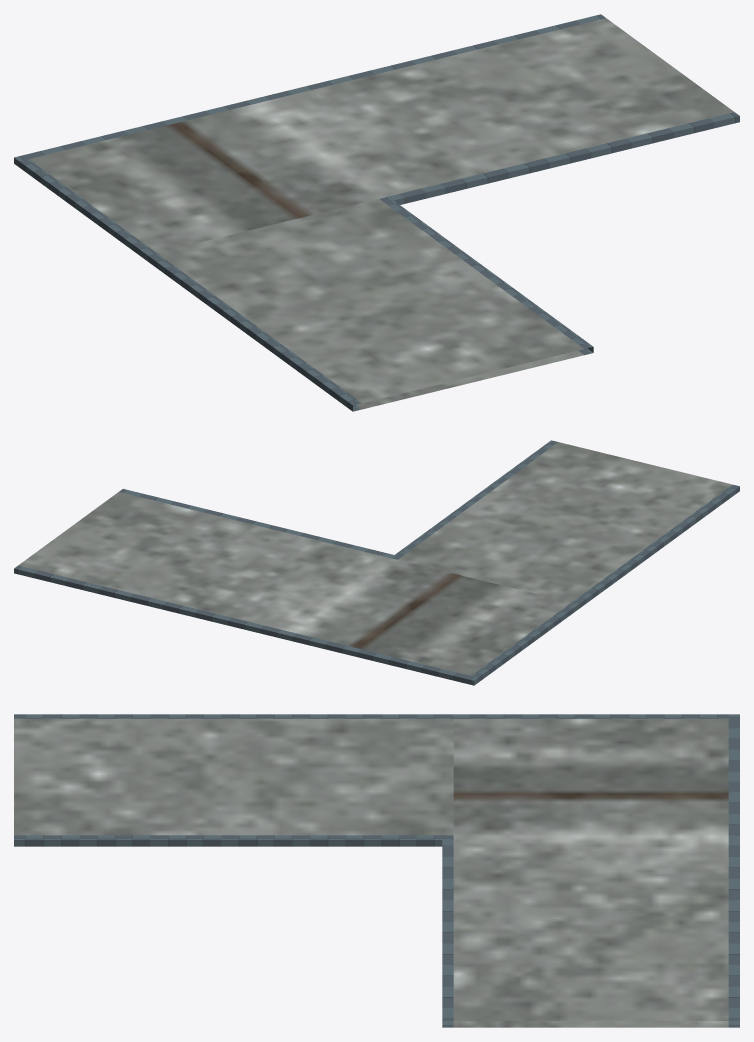
The model's file is BasicRoad L1.fbx.
The picture shows the model from 3 angles, top to bottom: view 1: azimuth 30°, elevation 25°; view 2: azimuth 150°, elevation 25°; view 3: azimuth 270°, elevation 25°; orthographic projection. The views are drawn at different scales.
Parts seen in each view (by area): view 1: BasicRoad L1; view 2: BasicRoad L1; view 3: BasicRoad L1.
Part boxes in pixels (<box>): BasicRoad L1: <box>14,14,739,411</box>; BasicRoad L1: <box>14,440,739,685</box>; BasicRoad L1: <box>14,714,739,1027</box>.
Size of the model in its own units: 1981 by 20 by 1981.
